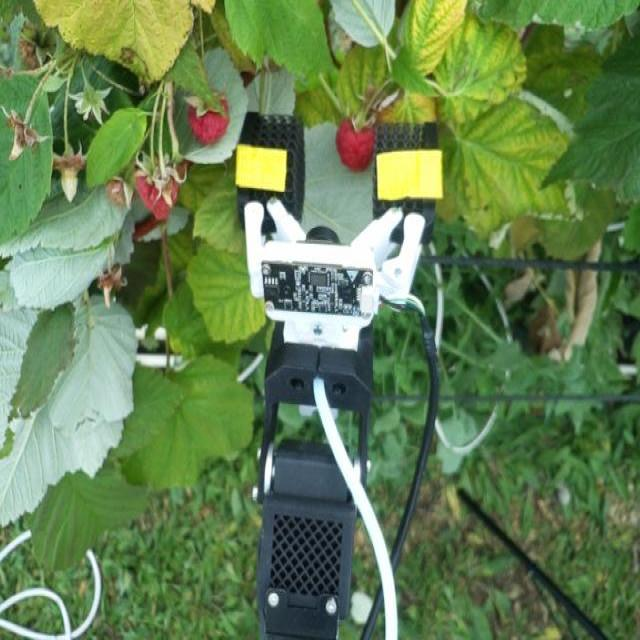Riped berries: (136, 157, 181, 224), (185, 89, 231, 147), (334, 112, 376, 172)
